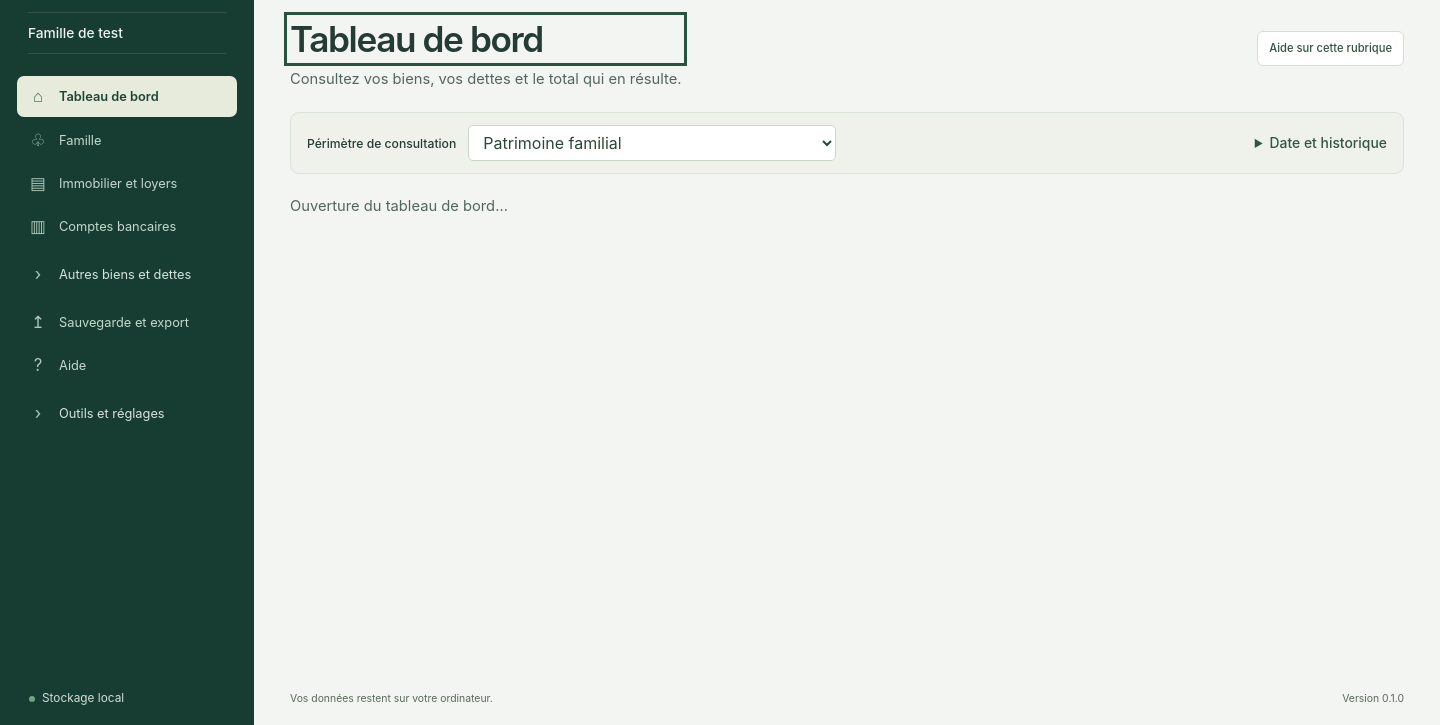
Scenario: Sauvegarde et restauration › présente le résumé sans modifier le coffre et permet d’annuler avant confirmation
The image size is (1440, 725).
Expected: the text "Famille de test" is shown, [28,25,123,41]
Click the button "↥ Sauvegarde et export": coordinates (127, 322) [17,302,237,342]
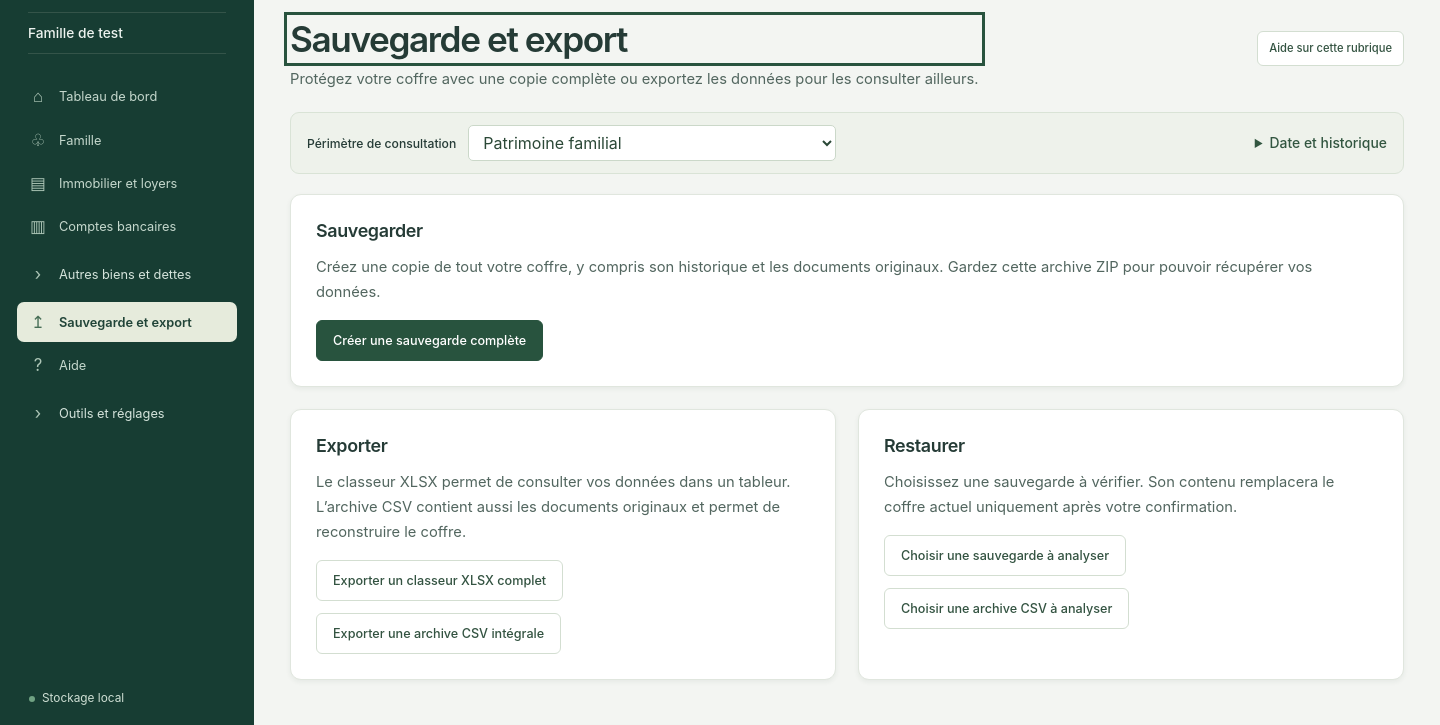
Click the button "Choisir une sauvegarde à analyser": coordinates (1005, 555) [884,534,1126,576]
(page scrolled)
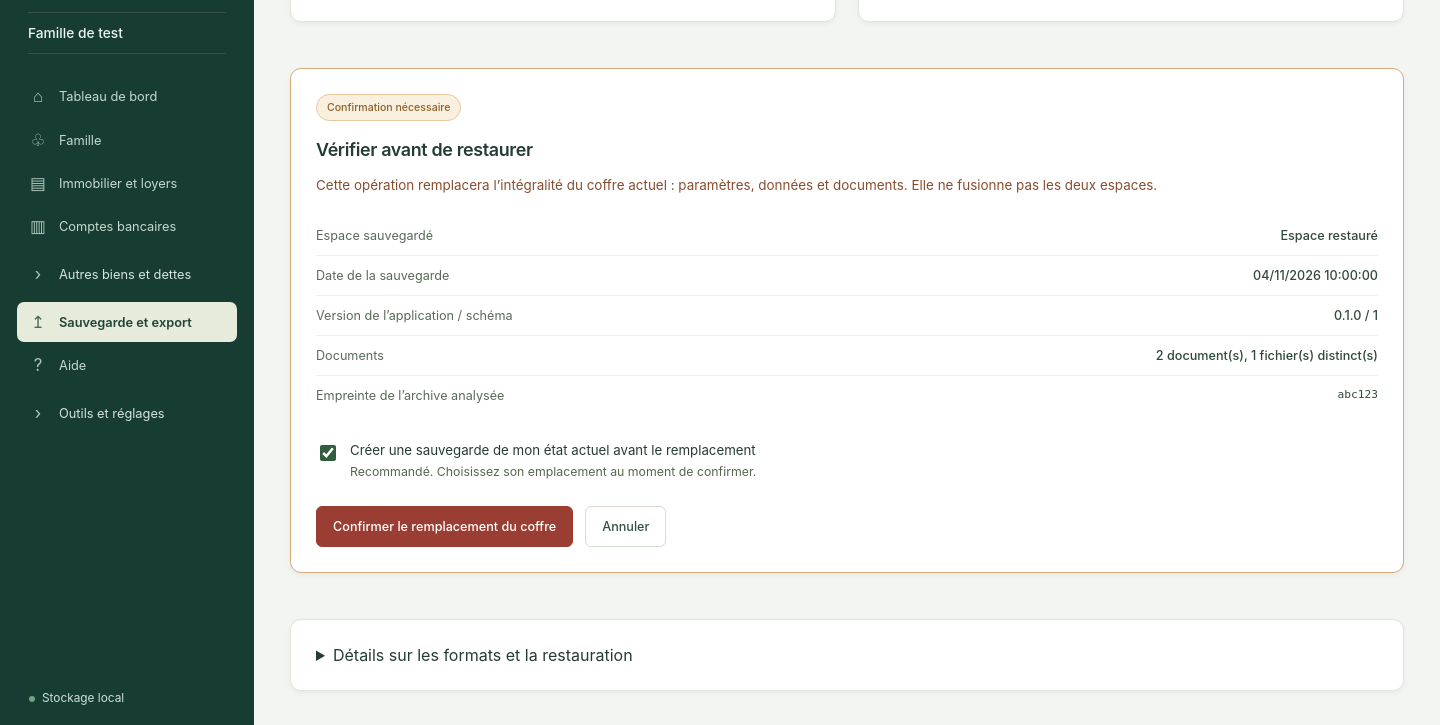
Expected: the heading "Vérifier avant de restaurer" is shown, [316,138,533,160]
Expected: the checkbox labelled "Créer une sauvegarde de mon état actuel" is checked, [320,445,336,461]
Expected: the text "remplacera l’intégralité du coffre actuel" is shown, [316,176,1157,192]
Click the button "Annuler": coordinates (626, 527) [585,506,666,547]
(page scrolled)
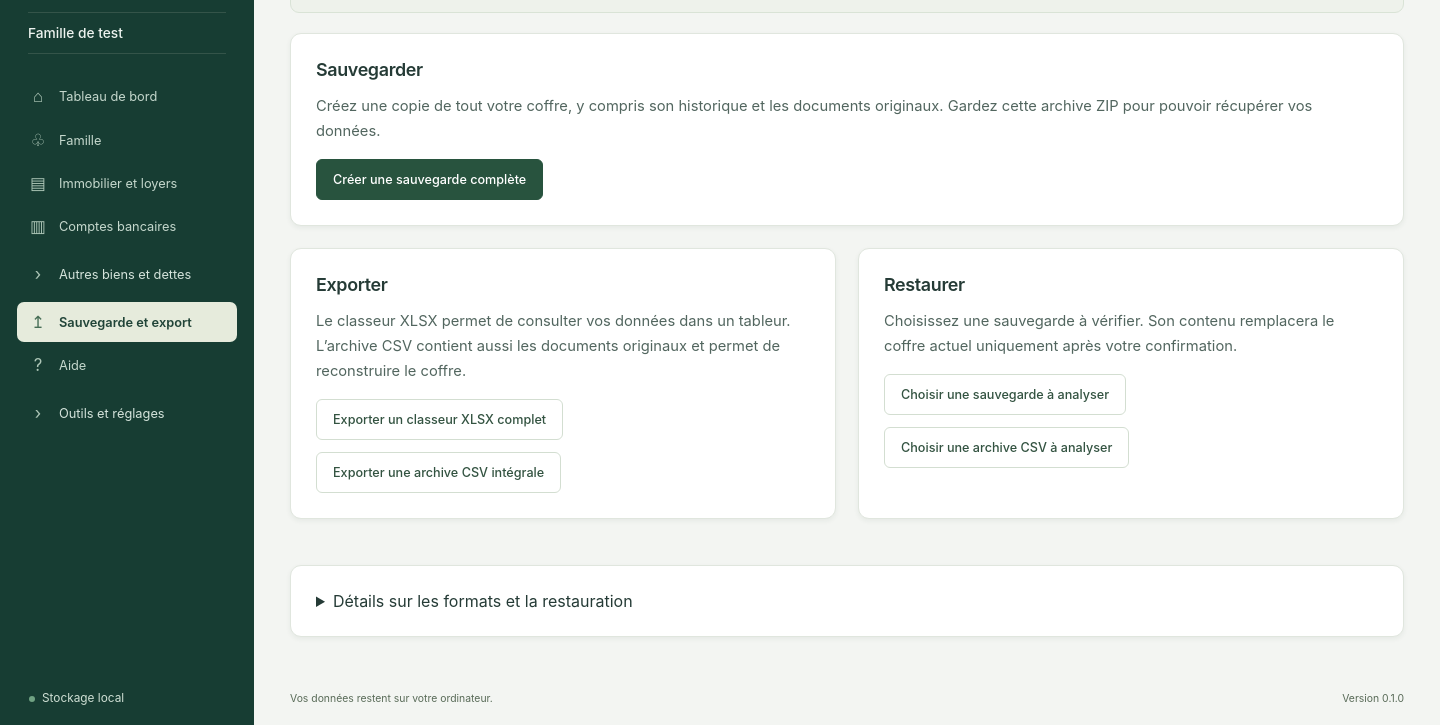
Expected: the heading "Vérifier avant de restaurer" is gone
